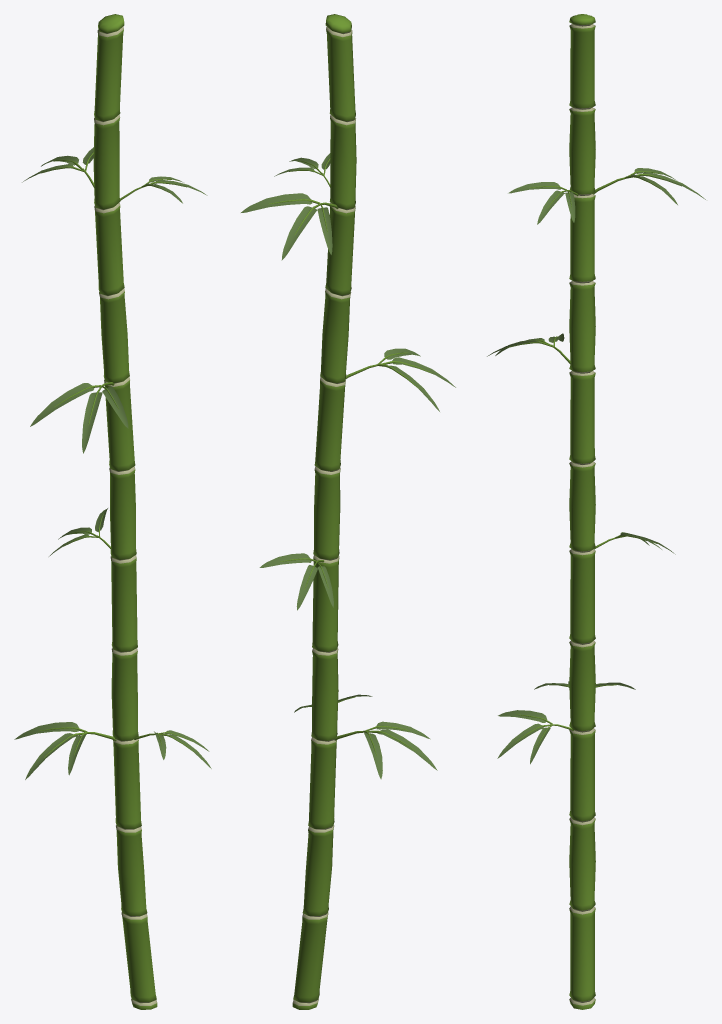
File: bamboo1.fbx
3 views of the same model, side by side, from view 1: azimuth 30°, elevation 25°; view 2: azimuth 150°, elevation 25°; view 3: azimuth 270°, elevation 25° (orthographic). The views are drawn at different scales.
Visible parts, largest first — view 1: Bamboo.020; view 2: Bamboo.020; view 3: Bamboo.020.
Part boxes in pixels (bbox=[...]): Bamboo.020: bbox=[14, 14, 211, 1009]; Bamboo.020: bbox=[241, 14, 455, 1009]; Bamboo.020: bbox=[487, 14, 705, 1009].
Bounding box in the file's own units: 784 × 4476 × 926.
